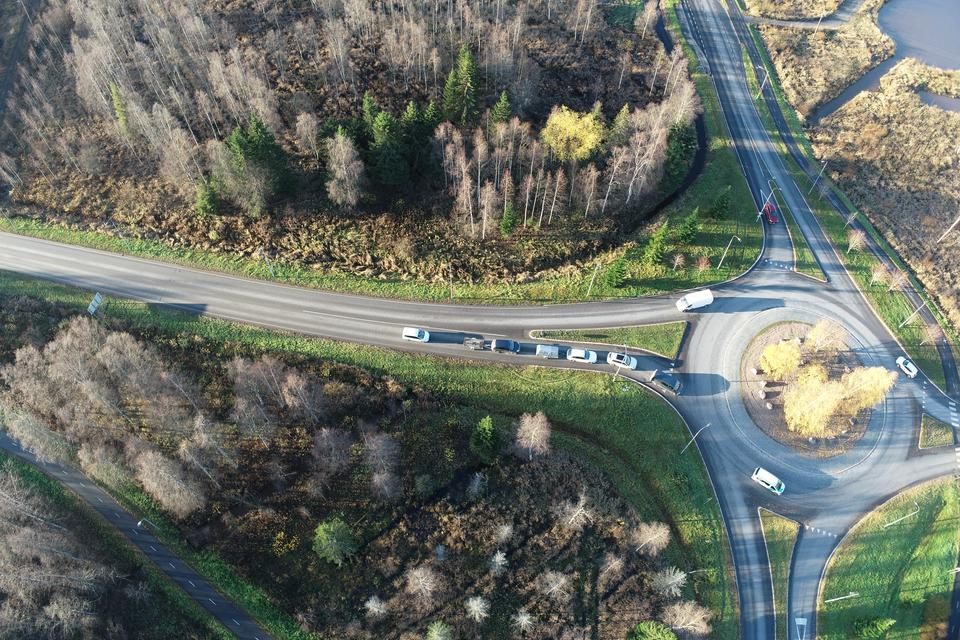intersection: (935, 377, 960, 493)
roundabout: (615, 221, 922, 584)
